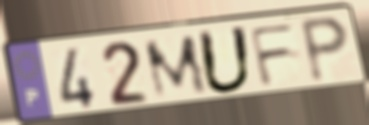2: (100, 39, 151, 109)
4: (58, 44, 97, 112)
F: (247, 21, 300, 90)
M: (140, 32, 211, 102)
P: (297, 14, 352, 86)
U: (194, 24, 255, 96)
